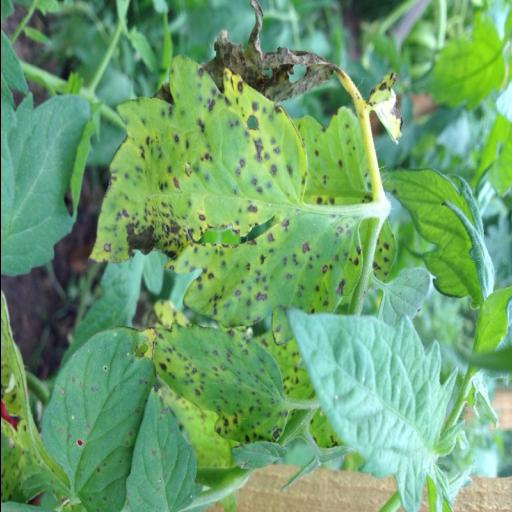Healthy: (283, 302, 466, 512)
Septoria: (84, 52, 382, 346), (36, 315, 162, 512), (121, 386, 207, 512)
